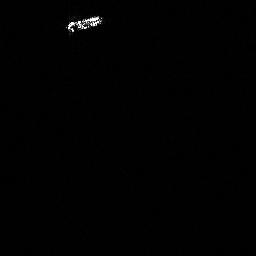ship: (63, 13, 106, 34)
